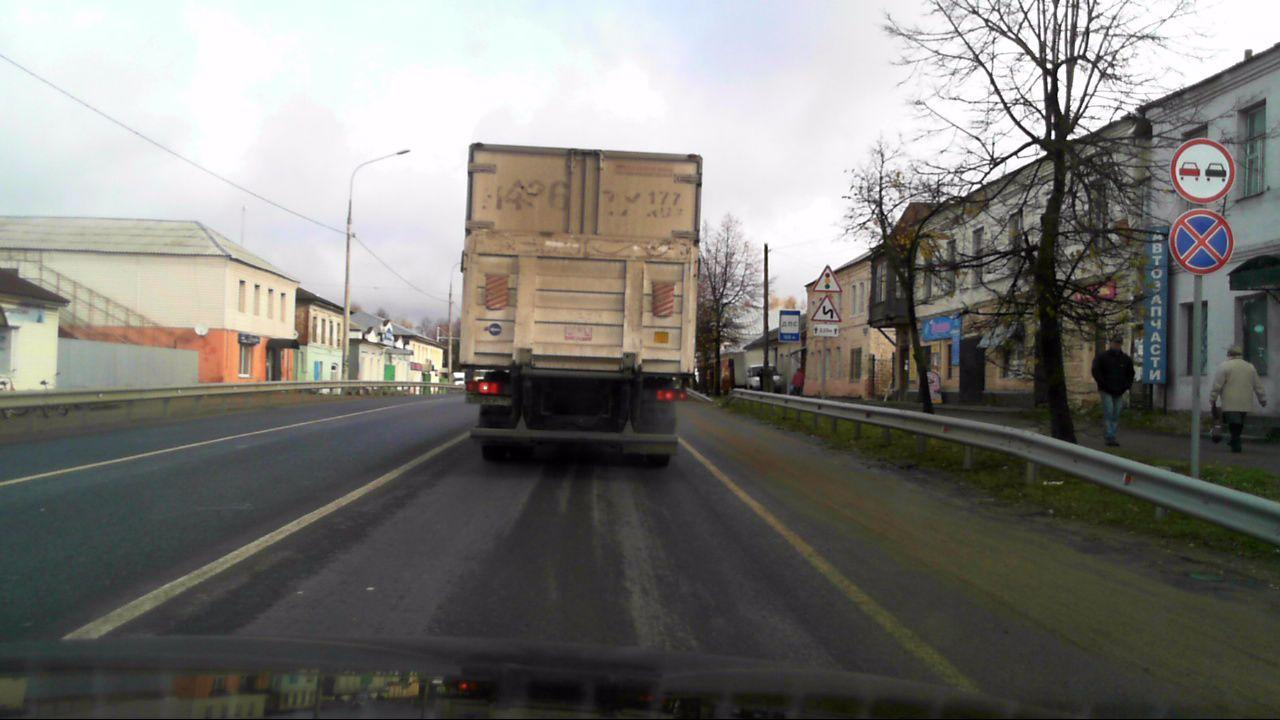1_12_2: (810, 296, 846, 321)
1_8: (813, 264, 842, 293)
3_20: (1170, 139, 1238, 205)
3_27: (1169, 208, 1235, 277)
7_12: (778, 310, 800, 342)
8_2_1: (814, 324, 838, 338)
